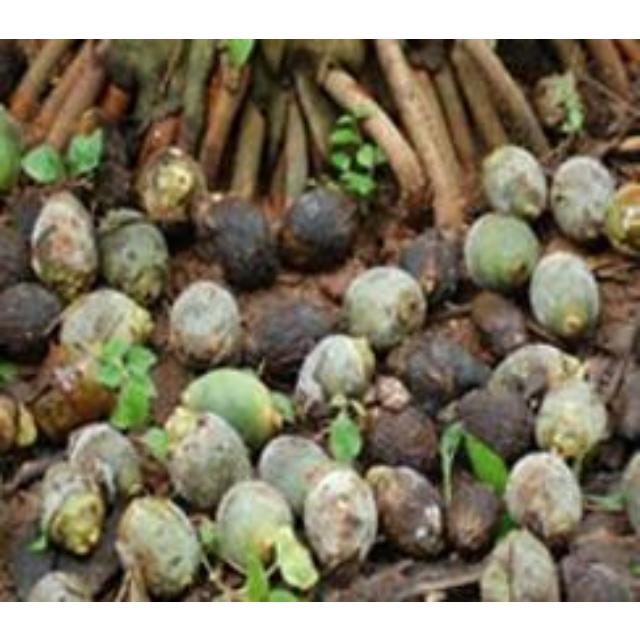damaged: (115, 494, 205, 598), (212, 479, 304, 578), (164, 412, 253, 510), (181, 366, 285, 449), (301, 465, 381, 571), (246, 292, 338, 381), (366, 463, 448, 561), (29, 191, 100, 301), (396, 331, 489, 414), (502, 450, 582, 546), (278, 185, 362, 273), (342, 266, 426, 350), (167, 280, 247, 368), (96, 212, 172, 304), (293, 334, 375, 418), (534, 374, 608, 466), (59, 289, 153, 361), (451, 380, 533, 462), (133, 147, 211, 233), (258, 434, 336, 518), (38, 461, 108, 554), (66, 422, 146, 502), (528, 250, 600, 338), (462, 212, 540, 292), (480, 528, 560, 600), (550, 155, 616, 241), (364, 402, 442, 473), (397, 226, 465, 306), (443, 472, 503, 558), (0, 280, 64, 360), (480, 144, 548, 218), (217, 196, 275, 278), (491, 344, 574, 401), (467, 289, 529, 357), (562, 540, 632, 600), (536, 68, 586, 134), (83, 119, 133, 180), (90, 156, 138, 212), (1, 225, 36, 298), (8, 186, 49, 248), (608, 366, 640, 442), (23, 570, 93, 602), (595, 312, 637, 358), (162, 404, 202, 446)
